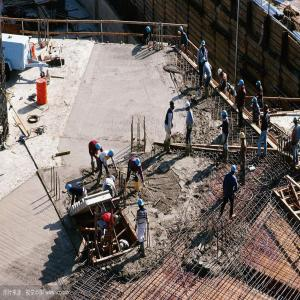blue: (135, 158, 142, 169), (113, 213, 120, 224), (96, 142, 103, 152), (67, 184, 73, 195), (139, 199, 145, 210), (240, 79, 246, 90), (293, 116, 299, 127), (110, 149, 116, 159), (231, 165, 237, 175), (222, 110, 228, 120), (253, 97, 259, 107), (146, 25, 152, 35), (111, 176, 117, 184), (257, 80, 262, 89), (202, 57, 207, 66), (202, 41, 207, 50), (180, 26, 185, 34)
none: (170, 100, 176, 111)
red: (264, 105, 270, 115)
white: (185, 102, 192, 112), (218, 68, 224, 77)
yellow: (240, 131, 246, 143)
